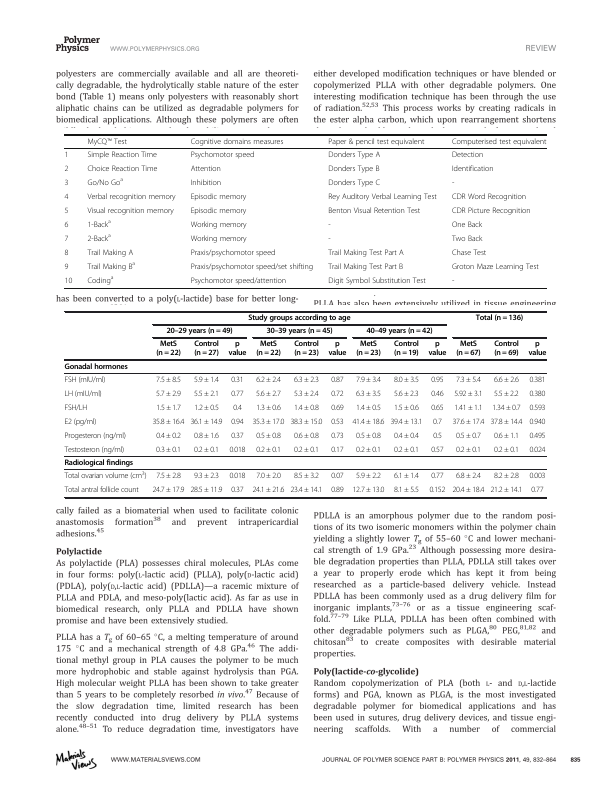borderless: (63, 310, 546, 497), (64, 133, 547, 288)
cell: (190, 262, 314, 272), (327, 192, 438, 202), (327, 276, 427, 286), (190, 276, 287, 286), (327, 206, 421, 216), (247, 314, 351, 323), (64, 470, 147, 481), (86, 192, 176, 202), (86, 206, 175, 216), (451, 262, 540, 272), (327, 137, 425, 146), (451, 137, 547, 146), (190, 248, 276, 258), (190, 137, 284, 146), (451, 206, 532, 216), (327, 248, 405, 258), (327, 262, 404, 272), (451, 192, 527, 202), (86, 150, 158, 160), (86, 164, 158, 174), (265, 327, 334, 337), (64, 486, 140, 495), (165, 327, 233, 337), (365, 327, 433, 337), (64, 362, 129, 372), (190, 150, 255, 160), (64, 431, 127, 441), (64, 459, 134, 468), (64, 445, 125, 455), (86, 260, 136, 272), (190, 220, 248, 230), (190, 234, 248, 244), (190, 192, 247, 202), (190, 206, 247, 216), (327, 150, 381, 160), (327, 178, 381, 188), (327, 164, 380, 174), (155, 340, 182, 359), (193, 340, 220, 359), (255, 340, 282, 359), (293, 340, 320, 359), (355, 340, 382, 359), (393, 340, 420, 359), (455, 340, 482, 359), (493, 340, 520, 359), (86, 248, 134, 258), (86, 176, 124, 188), (475, 314, 524, 323), (451, 164, 494, 174), (64, 375, 106, 385), (64, 389, 103, 399), (327, 340, 347, 359), (427, 340, 447, 359), (527, 340, 547, 359), (86, 137, 128, 146), (228, 340, 247, 359), (451, 248, 487, 258), (151, 417, 185, 427), (189, 417, 223, 427), (251, 417, 285, 427), (289, 417, 323, 427), (351, 417, 385, 427), (389, 417, 423, 427), (451, 417, 485, 427), (489, 417, 523, 427), (86, 274, 114, 286), (64, 417, 97, 427), (451, 150, 484, 160), (190, 164, 222, 174), (190, 178, 222, 188), (451, 220, 483, 230), (451, 234, 483, 244), (86, 218, 112, 230), (86, 232, 112, 244), (453, 403, 484, 413), (491, 403, 522, 413), (151, 486, 185, 495), (189, 486, 223, 495), (251, 486, 285, 495), (289, 486, 323, 495), (351, 486, 385, 495), (451, 486, 485, 495), (489, 486, 523, 495), (453, 389, 483, 399), (155, 375, 182, 385), (193, 375, 220, 385), (255, 375, 282, 385), (293, 375, 320, 385), (355, 375, 382, 385), (393, 375, 420, 385), (455, 375, 482, 385), (493, 375, 520, 385), (155, 389, 182, 399), (193, 389, 220, 399), (255, 389, 282, 399), (293, 389, 320, 399), (355, 389, 382, 399), (393, 389, 420, 399), (493, 389, 520, 399), (155, 403, 182, 413), (193, 403, 220, 413), (255, 403, 282, 413), (293, 403, 320, 413), (355, 403, 382, 413), (393, 403, 420, 413), (155, 431, 182, 441), (193, 431, 220, 441), (255, 431, 282, 441), (293, 431, 320, 441), (355, 431, 382, 441), (393, 431, 420, 441), (455, 431, 482, 441), (493, 431, 520, 441), (155, 445, 182, 455), (193, 445, 220, 455), (255, 445, 282, 455), (293, 445, 320, 455), (355, 445, 382, 455), (393, 445, 420, 455), (455, 445, 482, 455), (493, 445, 520, 455), (155, 472, 182, 481), (193, 472, 220, 481), (255, 472, 282, 481), (293, 472, 320, 481), (355, 472, 382, 481), (393, 472, 420, 481), (455, 472, 482, 481), (493, 472, 520, 481), (393, 486, 420, 495), (64, 403, 88, 413), (528, 375, 546, 385), (528, 389, 546, 399), (528, 403, 546, 413), (528, 417, 546, 427), (528, 431, 546, 441), (228, 445, 246, 455), (528, 445, 546, 455), (228, 472, 246, 481), (528, 472, 546, 481), (428, 486, 446, 495), (230, 375, 245, 385), (330, 375, 345, 385), (330, 403, 345, 413), (430, 403, 445, 413), (330, 417, 345, 427), (230, 431, 245, 441), (330, 431, 345, 441), (330, 445, 345, 455), (430, 375, 444, 385), (230, 389, 244, 399), (330, 389, 344, 399), (430, 389, 444, 399), (230, 417, 244, 427), (430, 445, 444, 455), (330, 472, 345, 481), (330, 486, 345, 495), (430, 472, 444, 481), (230, 486, 244, 495), (530, 486, 544, 495), (232, 403, 243, 413), (432, 417, 443, 427), (432, 431, 443, 441), (64, 276, 73, 286), (63, 150, 69, 160), (63, 164, 69, 174), (63, 178, 69, 188), (64, 192, 69, 202), (64, 206, 69, 216), (64, 220, 69, 230), (327, 220, 332, 230), (64, 234, 69, 244), (327, 234, 332, 244), (64, 248, 69, 258), (64, 262, 69, 272), (451, 178, 455, 188), (451, 276, 455, 286)
